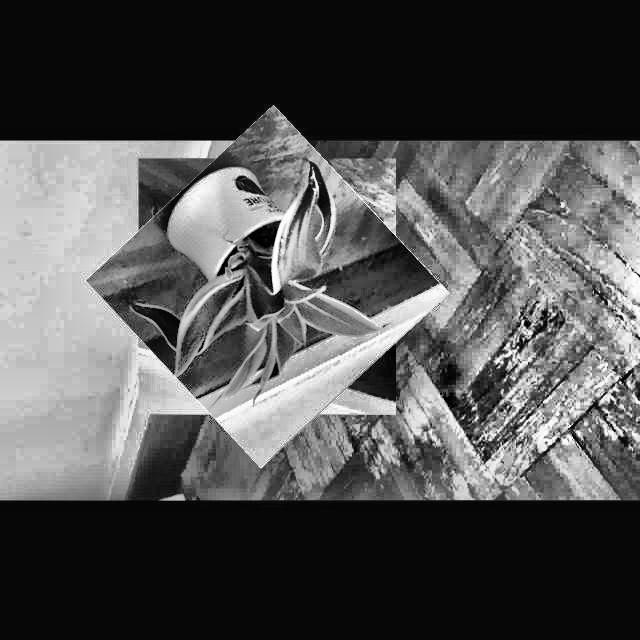plants: (112, 131, 422, 441)
